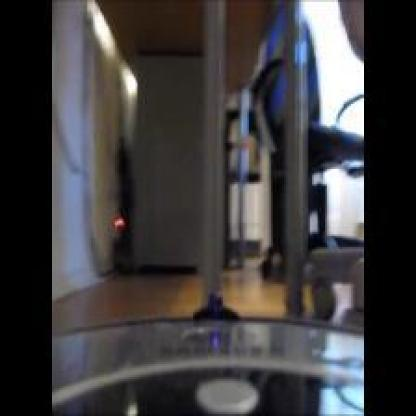other: (90, 7, 144, 101), (104, 204, 128, 240)
